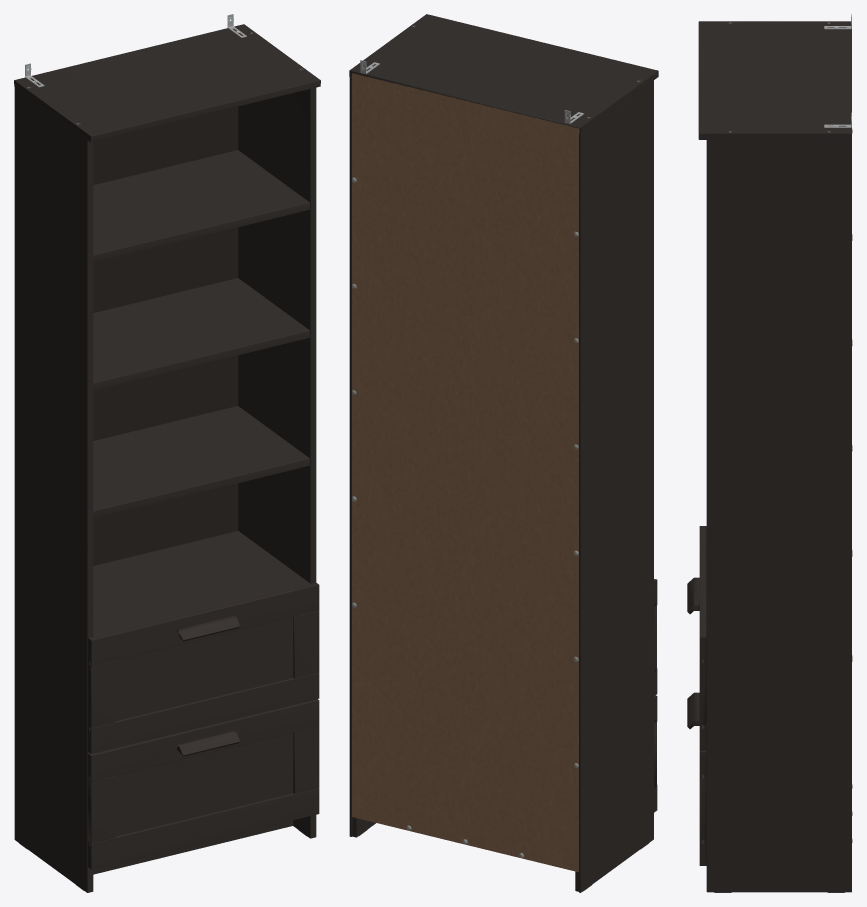
Rendered from 12 - BRIMNES Bookcase - black 60x190 cm.glb.
3 views of the same model, side by side, from view 1: azimuth 30°, elevation 25°; view 2: azimuth 150°, elevation 25°; view 3: azimuth 270°, elevation 25° (orthographic).
Visible parts, largest first — view 1: 40301223-BRIMNES001; view 2: 40301223-BRIMNES001; view 3: 40301223-BRIMNES001.
Boxes of the visible parts, box(x1,y1,x2,y2) form: 40301223-BRIMNES001: box(14, 14, 320, 892); 40301223-BRIMNES001: box(349, 14, 658, 892); 40301223-BRIMNES001: box(687, 14, 852, 892).
Bounding box in the file's own units: 0.602 × 1.93 × 0.3755.
1 material, 1 textured.
